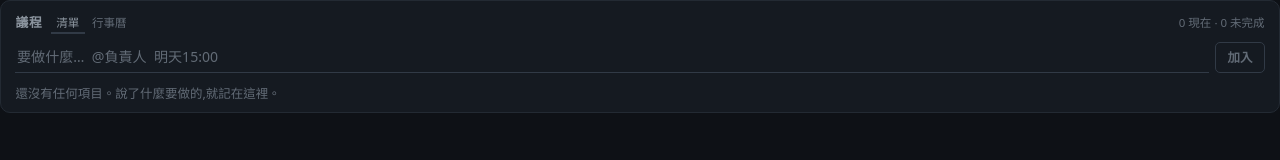
Test case: @ mentions › completes on a click
Type "@b" into the dropdown named "新增項目" at (612, 57), box [15, 42, 1209, 73]
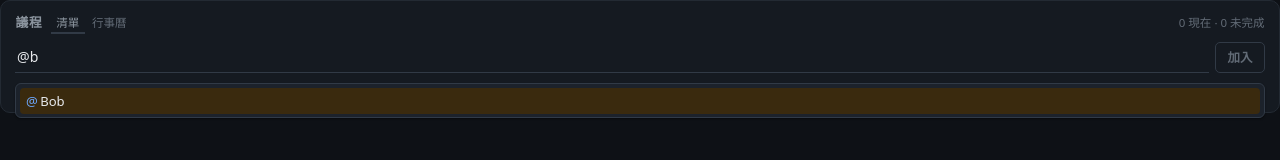
Press the mouse on the option "@ Bob" at (32, 101), box [20, 88, 1260, 114]
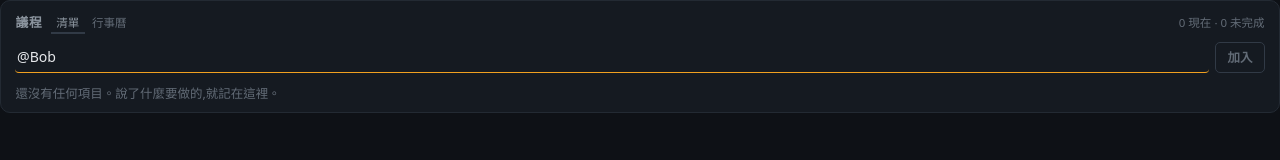
Now the dropdown named "新增項目" holds "@Bob ", box [15, 42, 1209, 73]
